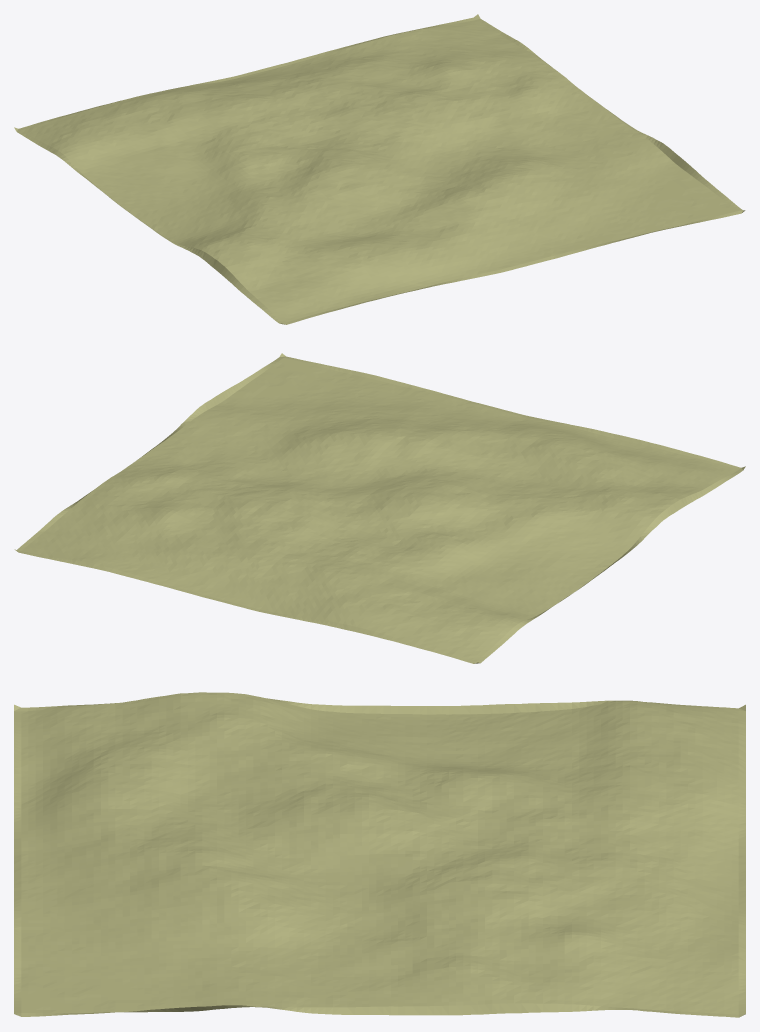
The model's file is seabed.obj.
The picture shows the model from 3 angles, top to bottom: view 1: azimuth 30°, elevation 25°; view 2: azimuth 150°, elevation 25°; view 3: azimuth 270°, elevation 25°; orthographic projection. The views are drawn at different scales.
Parts seen in each view (by area): view 1: Plane; view 2: Plane; view 3: Plane.
Boxes of the visible parts, left/top/right/bottom form: Plane: left=14, top=14, right=745, bottom=324; Plane: left=14, top=353, right=745, bottom=663; Plane: left=14, top=692, right=745, bottom=1017.
Bounding box in the file's own units: 512 × 22.6 × 512.
